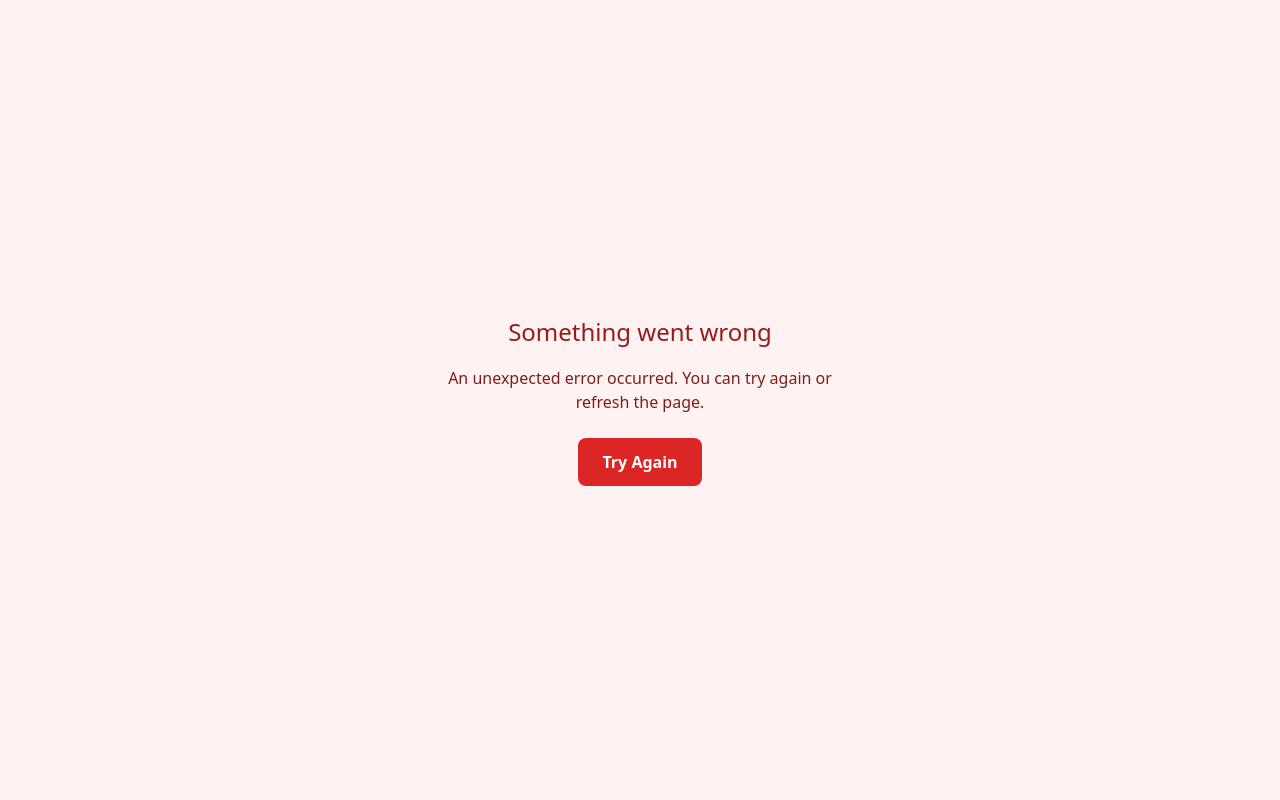
it: Group D: Error Handling › D4: Clicking "Try Again" resets error and re-renders children
Click the button with test id "error-boundary-retry".
click(640, 462)  # box [578,438,702,486]
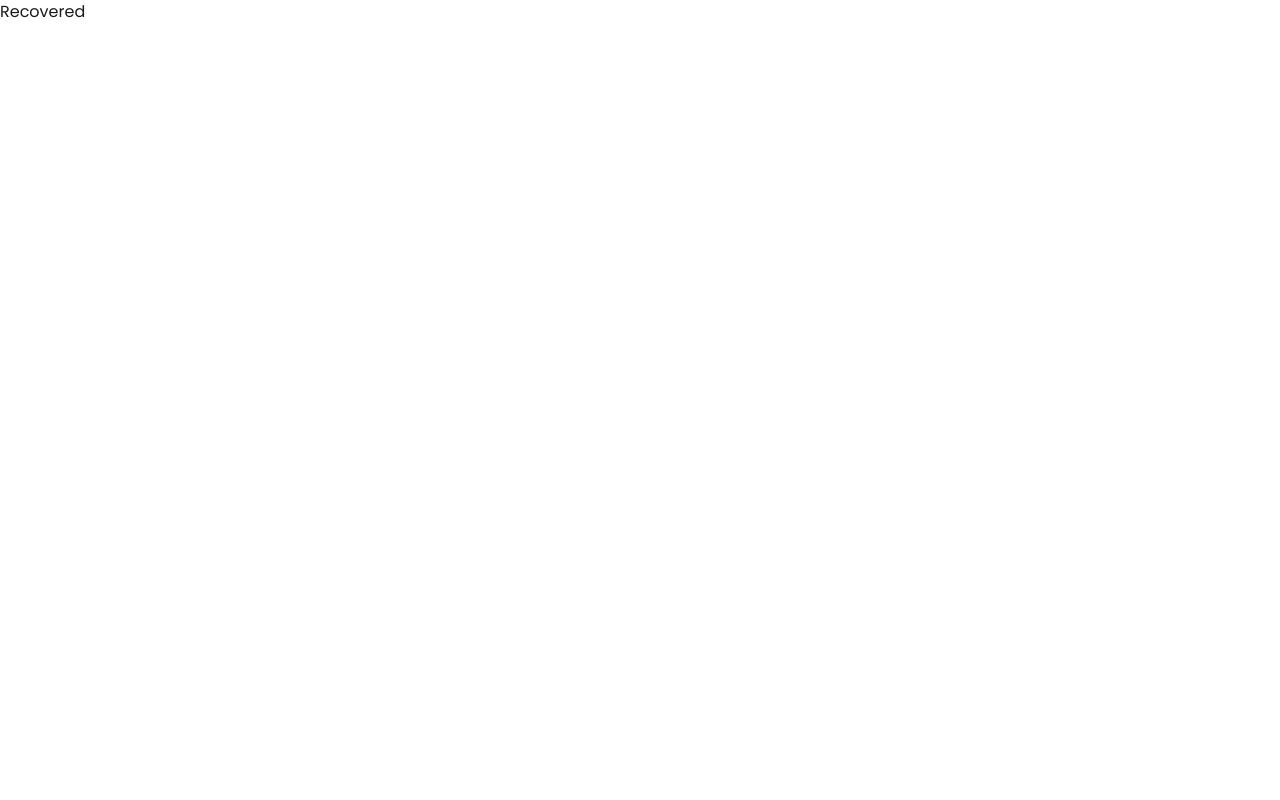
expect the text "Recovered" is shown: met, box [0,0,85,23]
expect the element with test id "error-boundary-fallback" is gone: met
